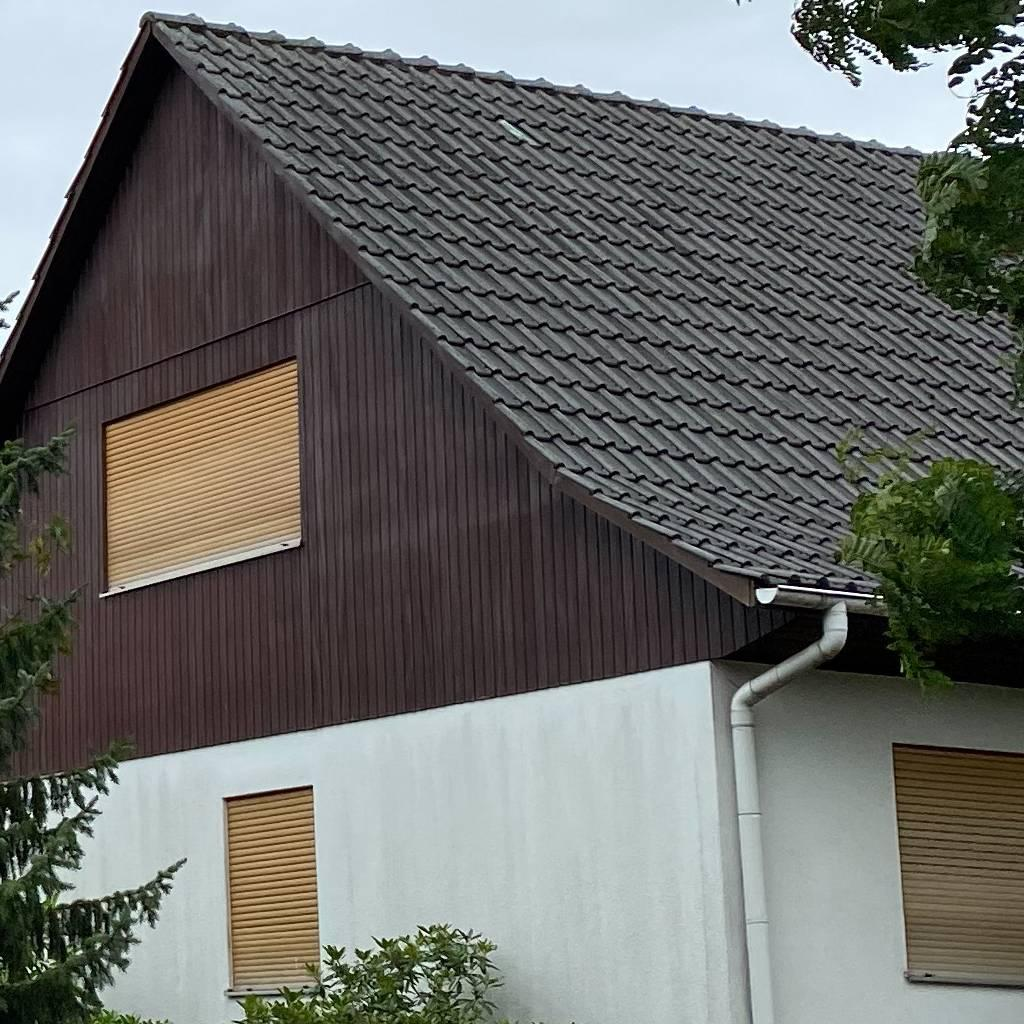tree: (736, 1, 1024, 700), (1, 287, 191, 1023)
